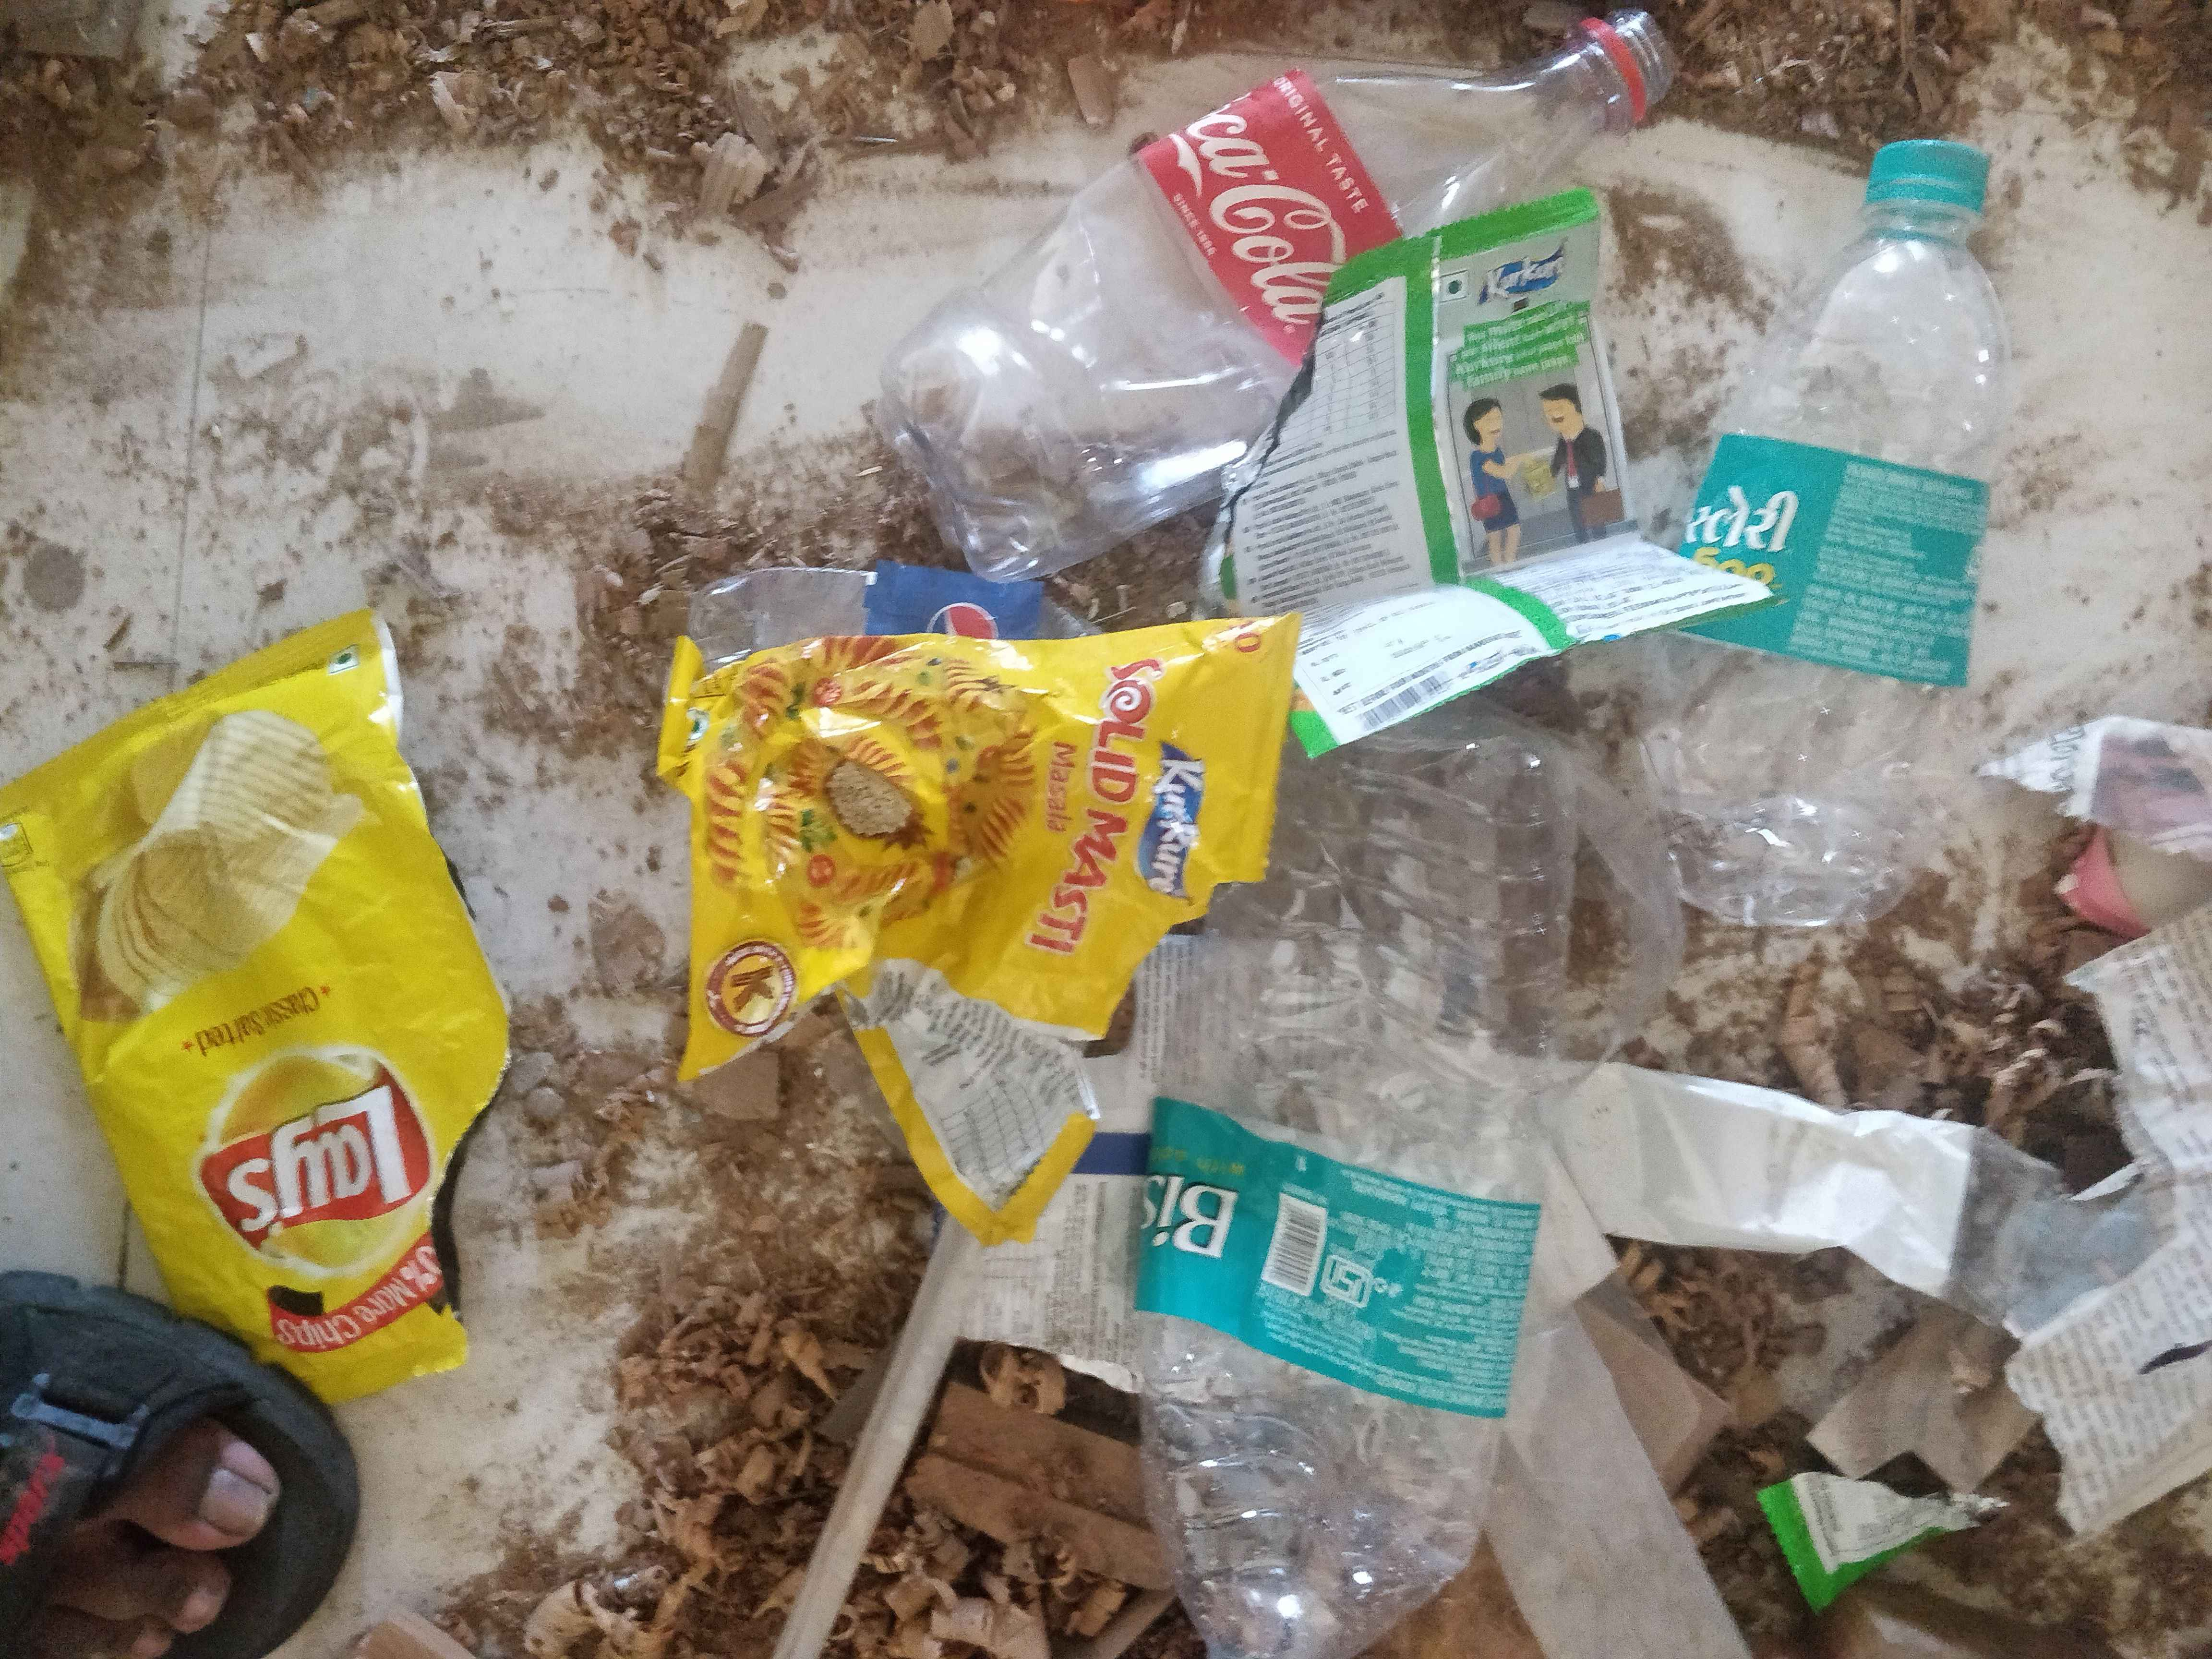Bisleri: (1151, 1114, 1505, 1408), (1691, 455, 1959, 653)
Coca-Cola: (1193, 91, 1421, 352)
Lays: (204, 1028, 462, 1288)
kurkure: (1122, 716, 1237, 913), (1470, 230, 1578, 308)
pepsi: (927, 579, 1033, 648)
